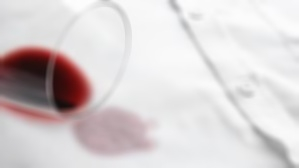wine: (69, 103, 157, 154)
